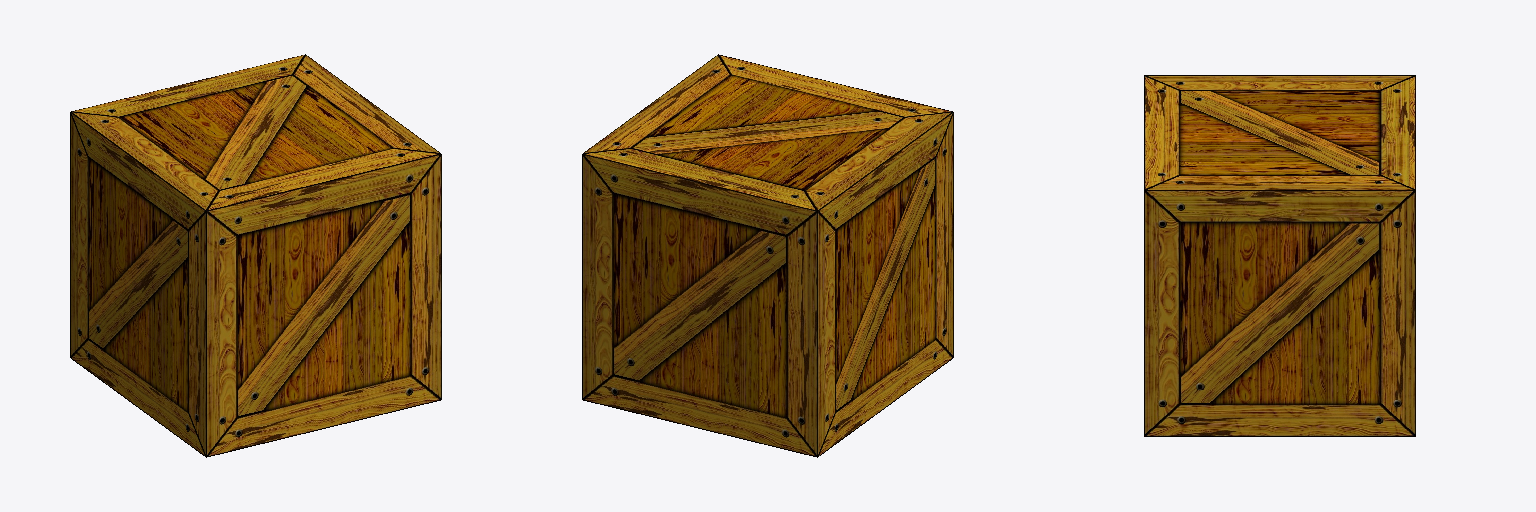
3 renders of one model, left to right at view 1: azimuth 30°, elevation 25°; view 2: azimuth 150°, elevation 25°; view 3: azimuth 270°, elevation 25°, orthographic.
Parts seen in each view (by area): view 1: crate, crate1; view 2: crate, crate1; view 3: crate, crate1.
Boxes of the visible parts, box(x1,y1,x2,y2) form: crate: box(70, 54, 441, 457); crate1: box(70, 55, 441, 456); crate: box(582, 54, 953, 456); crate1: box(582, 56, 953, 457); crate: box(1144, 75, 1415, 436); crate1: box(1144, 75, 1415, 436).
Bounding box in the file's own units: 1 × 1 × 1.
Materials: 1 (1 with a texture image).